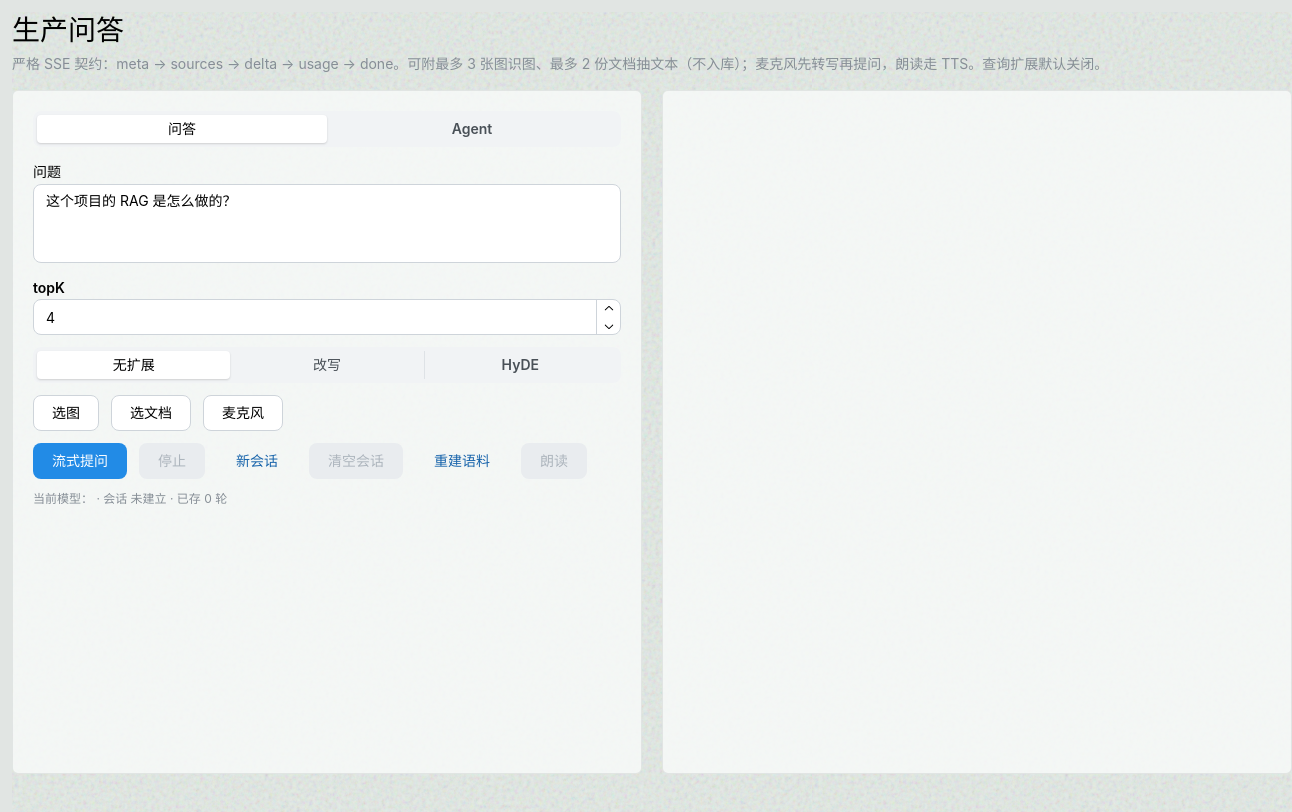
Scenario: ProductionChatPanel › 未显式选择 Provider 时交给后端全局能力路由
This screenshot has width=1292, height=812.
What coordinates should you click on to do the following:
click the button "流式提问"
I would click on:
 (80, 461)
Its box is [33,443,127,479].
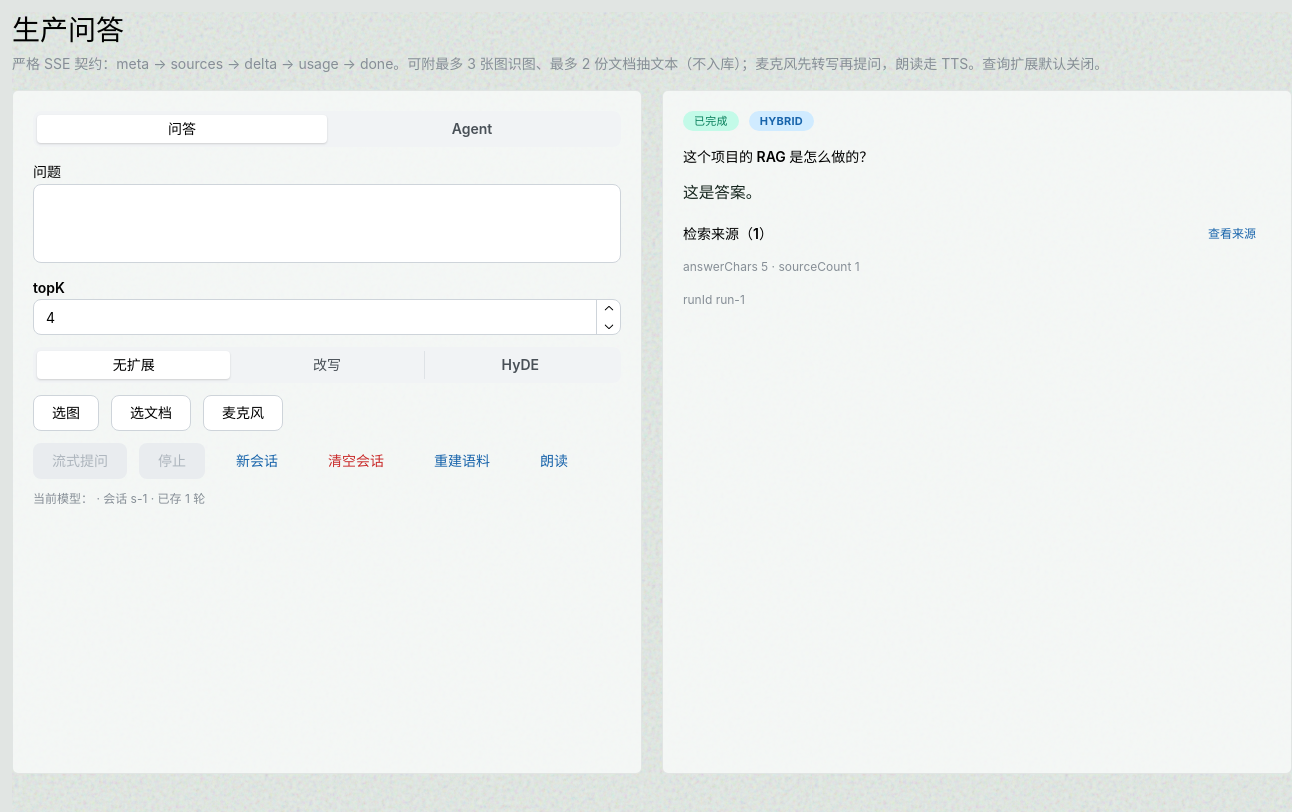
Check: the text "已完成" is shown, box [694,112,728,130]
